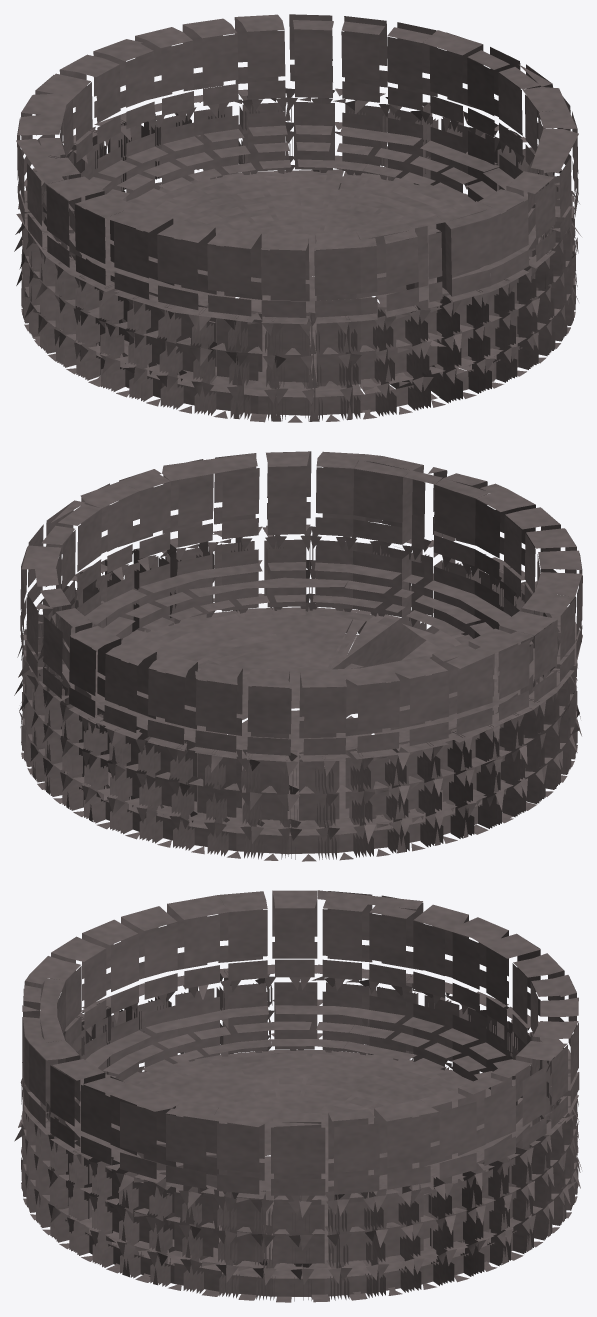
The model's file is colosseum_cloud9.glb.
The picture shows the model from 3 angles, top to bottom: view 1: azimuth 30°, elevation 25°; view 2: azimuth 150°, elevation 25°; view 3: azimuth 270°, elevation 25°; orthographic projection.
Visible parts, largest first — view 1: Arena_Material_0; view 2: Arena_Material_0; view 3: Arena_Material_0.
Boxes of the visible parts, <box> form: Arena_Material_0: <box>14,14,581,422</box>; Arena_Material_0: <box>14,451,582,861</box>; Arena_Material_0: <box>14,890,581,1302</box>.
Bounding box in the file's own units: 12765 × 4348 × 12790.
1 material, 1 textured.
